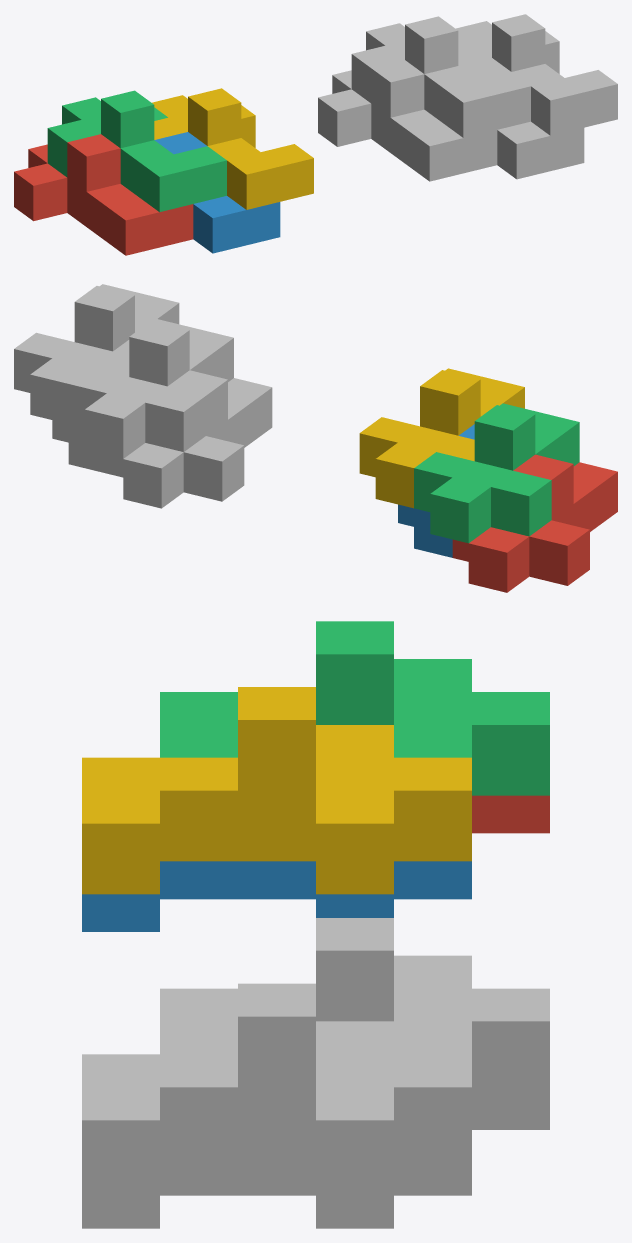
Rendered from tiling.obj.
The picture shows the model from 3 angles, top to bottom: view 1: azimuth 30°, elevation 25°; view 2: azimuth 150°, elevation 25°; view 3: azimuth 270°, elevation 25°; orthographic projection. The views are drawn at different scales.
Visible parts, largest first — view 1: copy_1_domain_1, copy_1_domain_5, copy_1_domain_7, copy_1_domain_3, copy_1_domain_4, copy_1_domain_8, copy_1_domain_2, copy_1_domain_6; view 2: copy_1_domain_3, copy_1_domain_7, copy_1_domain_1, copy_1_domain_5, copy_1_domain_8, copy_1_domain_4, copy_1_domain_6, copy_1_domain_2; view 3: copy_1_domain_4, copy_1_domain_8, copy_1_domain_7, copy_1_domain_3, copy_1_domain_6, copy_1_domain_2, copy_1_domain_1, copy_1_domain_5.
Boxes of the visible parts, <box> form: copy_1_domain_1: <box>14,134,193,255</box>; copy_1_domain_5: <box>318,60,497,181</box>; copy_1_domain_7: <box>351,16,530,137</box>; copy_1_domain_3: <box>47,90,226,212</box>; copy_1_domain_4: <box>152,88,313,209</box>; copy_1_domain_8: <box>456,14,617,135</box>; copy_1_domain_2: <box>154,132,280,253</box>; copy_1_domain_6: <box>458,58,584,179</box>; copy_1_domain_3: <box>414,403,579,543</box>; copy_1_domain_7: <box>68,319,233,458</box>; copy_1_domain_1: <box>452,454,617,592</box>; copy_1_domain_5: <box>107,370,272,508</box>; copy_1_domain_8: <box>14,284,179,423</box>; copy_1_domain_4: <box>359,368,524,508</box>; copy_1_domain_6: <box>52,340,129,473</box>; copy_1_domain_2: <box>398,424,474,557</box>; copy_1_domain_4: <box>82,687,471,894</box>; copy_1_domain_8: <box>82,983,471,1190</box>; copy_1_domain_7: <box>160,918,549,1092</box>; copy_1_domain_3: <box>160,621,549,795</box>; copy_1_domain_6: <box>82,1158,471,1228</box>; copy_1_domain_2: <box>82,861,471,931</box>; copy_1_domain_1: <box>472,795,549,833</box>; copy_1_domain_5: <box>472,1092,549,1129</box>.
Size of the model in its own units: 15 by 3 by 6.
